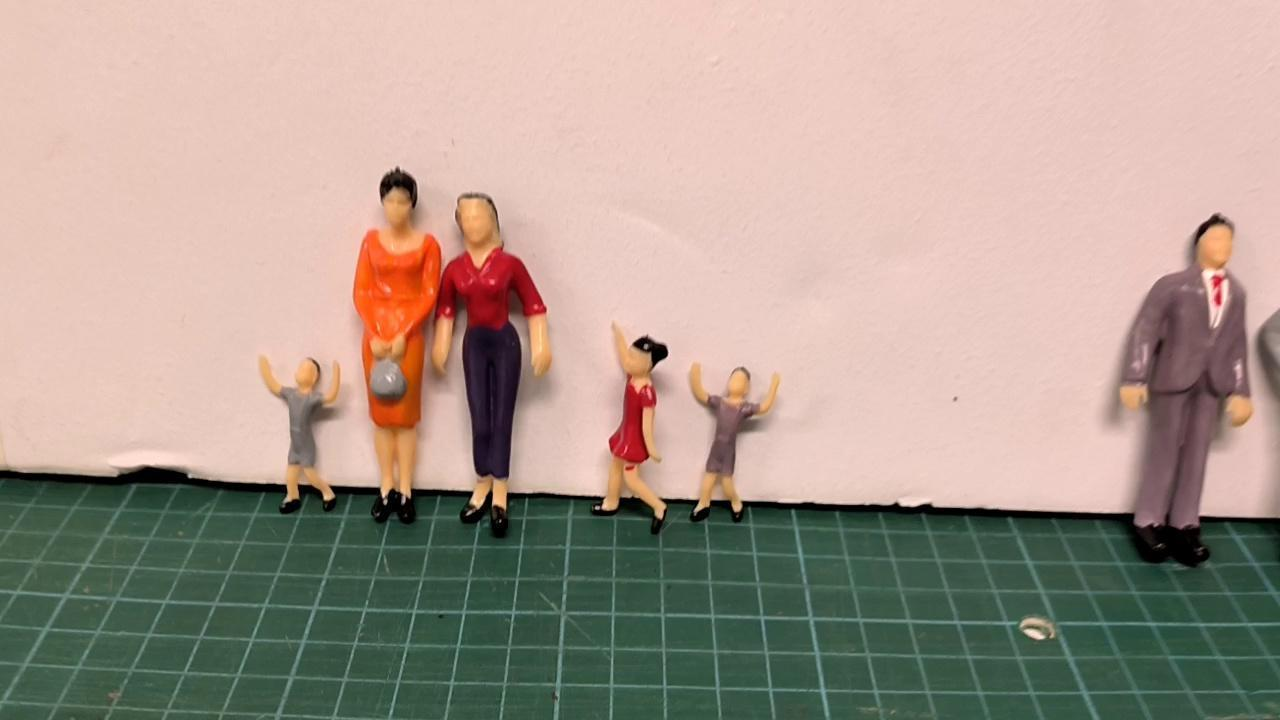human: (1108, 196, 1261, 573), (432, 188, 555, 545), (343, 157, 441, 531), (592, 300, 678, 538), (247, 336, 350, 525), (686, 345, 784, 540)
